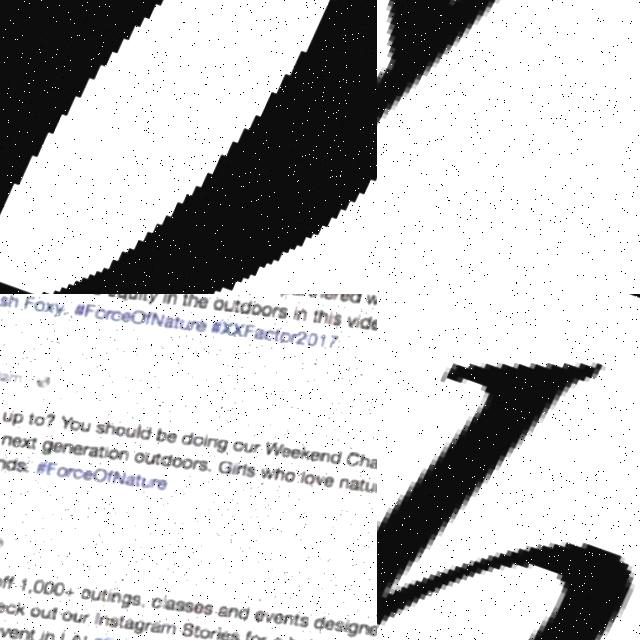0: (37, 576, 56, 596), (306, 330, 324, 351), (48, 578, 66, 598), (58, 579, 76, 599), (0, 364, 9, 384)
1: (316, 332, 333, 350), (22, 575, 38, 594)
2: (296, 329, 314, 348)
7: (327, 333, 345, 353)
H: (377, 361, 640, 640)
Y: (377, 0, 640, 294)
